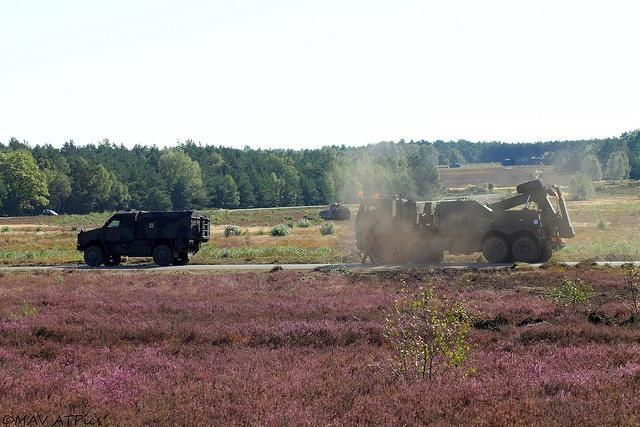car: (44, 209, 58, 216)
truck: (354, 176, 577, 268), (76, 210, 210, 267)
